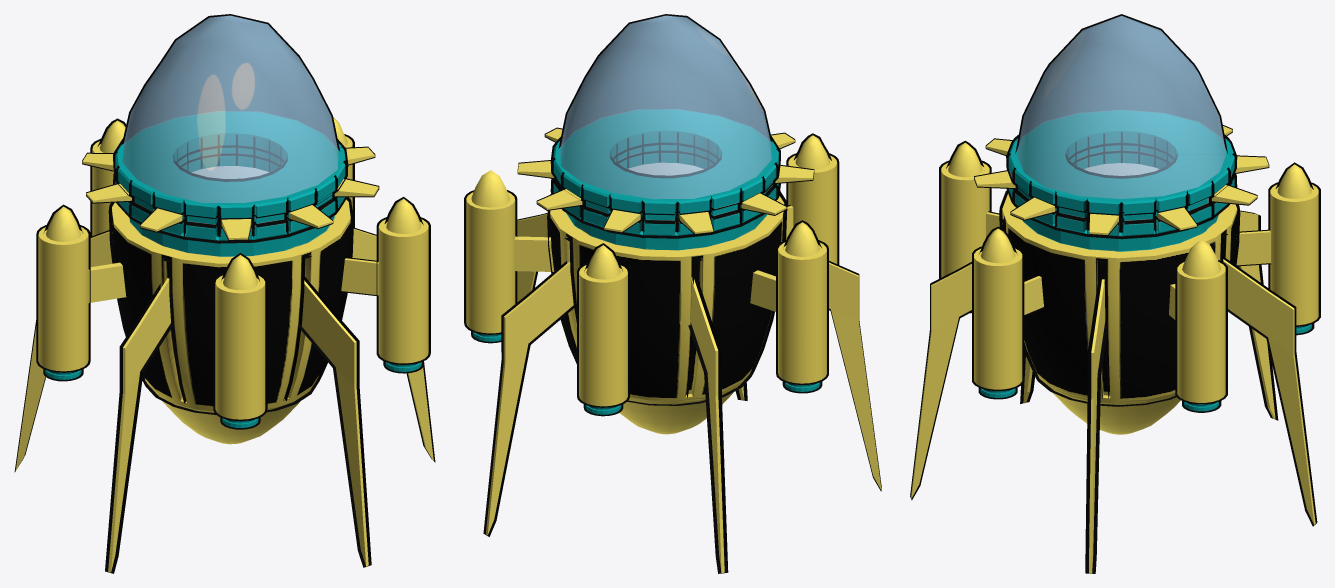
Rendered from nave_trunks.glb.
3 views of the same model, side by side, from view 1: azimuth 30°, elevation 25°; view 2: azimuth 150°, elevation 25°; view 3: azimuth 270°, elevation 25° (orthographic). The views are drawn at different scales.
Visible parts, largest first — view 1: Object_10, Object_23, Object_25, Object_22, Object_28, Object_21, Object_14, Object_13, Object_27, Object_20, Object_24, Object_29 (+9 smaller); view 2: Object_10, Object_23, Object_25, Object_22, Object_28, Object_16, Object_13, Object_27, Object_20, Object_21, Object_11, Object_12 (+8 smaller); view 3: Object_10, Object_23, Object_25, Object_22, Object_28, Object_16, Object_14, Object_21, Object_27, Object_20, Object_12, Object_24 (+8 smaller).
Boxes of the visible parts, box(x1,y1,x2,y2) form: Object_10: box(122, 15, 338, 202); Object_23: box(112, 199, 350, 411); Object_25: box(115, 112, 345, 240); Object_22: box(38, 136, 428, 379); Object_28: box(14, 118, 435, 573); Object_21: box(215, 275, 265, 427); Object_14: box(301, 280, 368, 566); Object_13: box(108, 278, 170, 572); Object_27: box(82, 14, 379, 243); Object_20: box(46, 117, 421, 290); Object_24: box(88, 258, 378, 302); Object_29: box(108, 197, 353, 414); Object_10: box(560, 15, 771, 199); Object_23: box(550, 196, 784, 402); Object_25: box(553, 110, 778, 235); Object_22: box(466, 192, 826, 414); Object_28: box(464, 133, 881, 573); Object_16: box(485, 261, 573, 535); Object_13: box(829, 262, 881, 489); Object_27: box(517, 14, 814, 238); Object_20: box(471, 135, 829, 279); Object_21: box(788, 155, 837, 263); Object_11: box(690, 277, 724, 572); Object_12: box(619, 373, 749, 434); Object_10: box(1017, 15, 1226, 198); Object_23: box(1002, 193, 1237, 403); Object_25: box(1008, 110, 1234, 236); Object_22: box(974, 184, 1318, 411); Object_28: box(910, 140, 1320, 573); Object_16: box(1223, 259, 1315, 524); Object_14: box(911, 264, 971, 498); Object_21: box(941, 162, 989, 277); Object_27: box(974, 14, 1269, 239); Object_20: box(948, 142, 1311, 277); Object_12: box(1051, 386, 1180, 434); Object_24: box(986, 212, 1270, 319).
Size of the model in its own units: 19.53 by 24.64 by 19.52.
28 materials, 23 textured.
